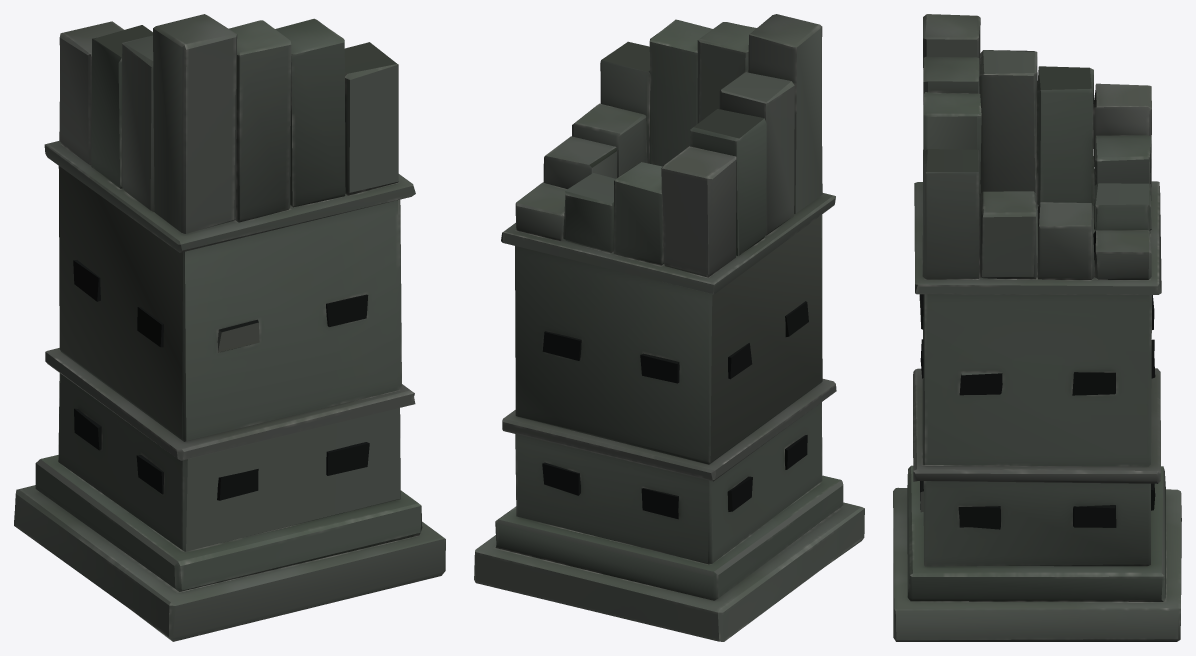
The model's file is crypt_skyline_ruin.glb.
3 views of the same model, side by side, from view 1: azimuth 30°, elevation 25°; view 2: azimuth 150°, elevation 25°; view 3: azimuth 270°, elevation 25° (orthographic). The views are drawn at different scales.
Parts seen in each view (by area): view 1: crypt_skyline_ruin; view 2: crypt_skyline_ruin; view 3: crypt_skyline_ruin.
Part boxes in pixels (left/top/right/bottom): crypt_skyline_ruin: left=14, top=14, right=445, bottom=641; crypt_skyline_ruin: left=474, top=14, right=864, bottom=641; crypt_skyline_ruin: left=893, top=14, right=1181, bottom=641.
Size of the model in its own units: 7.63 by 15.23 by 7.63.
1 material, 1 textured.
